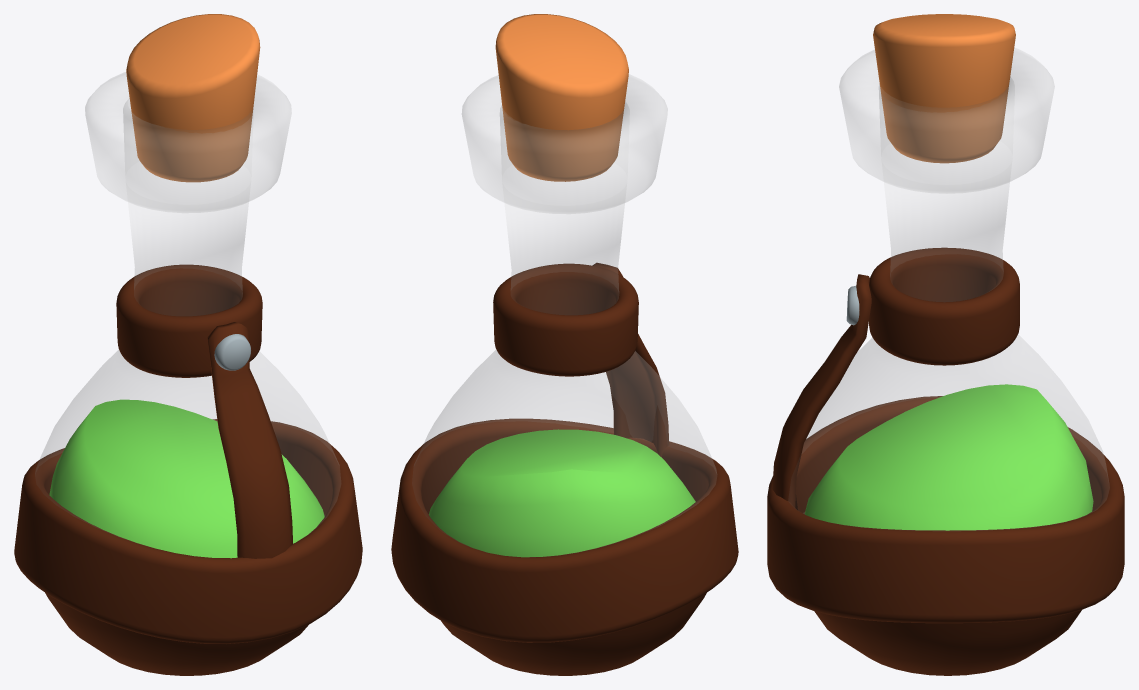
File: Potion.glb
3 views of the same model, side by side, from view 1: azimuth 30°, elevation 25°; view 2: azimuth 150°, elevation 25°; view 3: azimuth 270°, elevation 25° (orthographic). The views are drawn at different scales.
Parts seen in each view (by area): view 1: Potion; view 2: Potion; view 3: Potion.
Boxes of the visible parts, x1=… form: Potion: x1=14, y1=14, x2=362, y2=675; Potion: x1=391, y1=14, x2=738, y2=675; Potion: x1=767, y1=14, x2=1124, y2=675.
Bounding box in the file's own units: 0.8798 × 1.73 × 0.8647.
